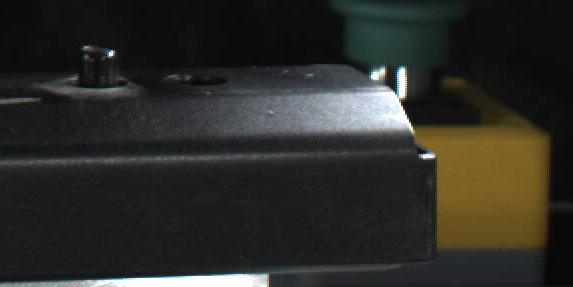screw: (67, 37, 125, 90)
